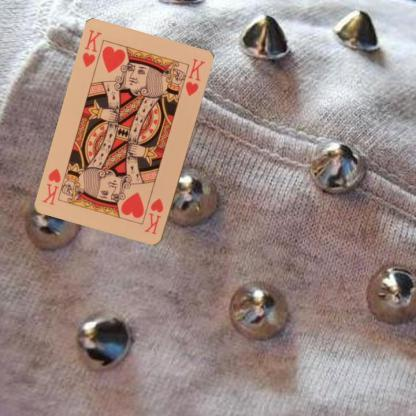Kh: (80, 27, 104, 69), (142, 196, 165, 236)
